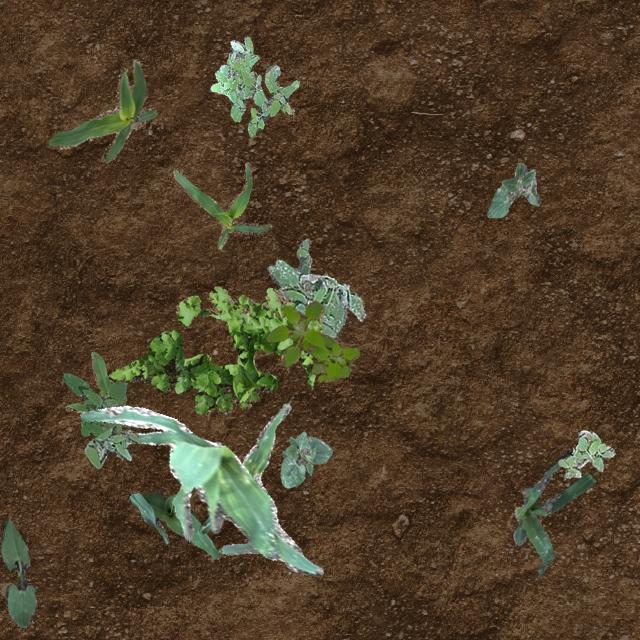crop: (79, 406, 322, 576), (198, 402, 290, 532), (48, 58, 156, 162), (512, 448, 596, 576), (172, 160, 270, 248), (128, 491, 218, 558), (64, 351, 125, 432), (0, 516, 36, 626), (486, 162, 540, 216), (280, 431, 332, 486)
weed: (108, 286, 322, 414), (210, 36, 298, 136), (266, 300, 358, 380), (274, 258, 364, 338), (60, 372, 128, 436), (558, 428, 614, 476), (266, 238, 310, 292), (84, 426, 140, 468)
